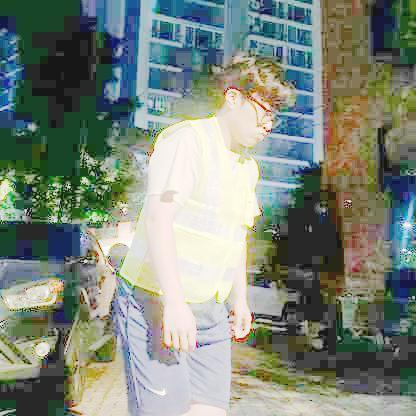no-helmet: (219, 48, 295, 139)
vest: (118, 114, 261, 304)
